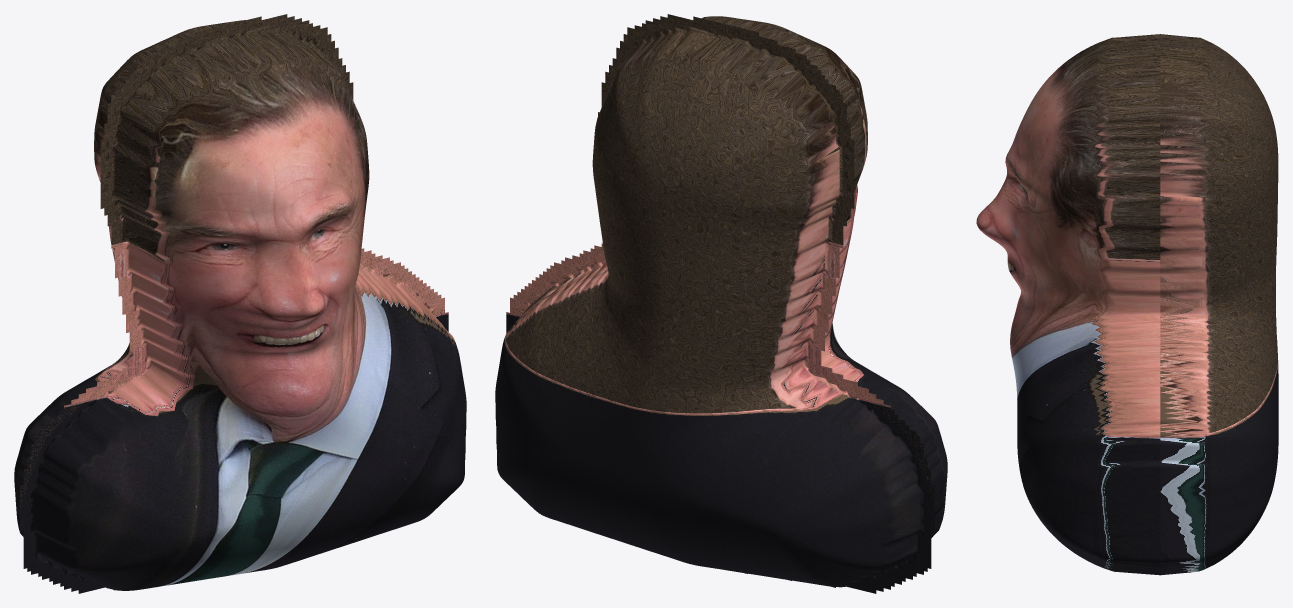
Rendered from schroeder_head.glb.
The picture shows the model from 3 angles, left to right: view 1: azimuth 30°, elevation 25°; view 2: azimuth 150°, elevation 25°; view 3: azimuth 270°, elevation 25°; orthographic projection. The views are drawn at different scales.
Parts seen in each view (by area): view 1: head; view 2: head; view 3: head.
Part boxes in pixels (x1,y1,x2,y2): head: (14, 14, 466, 593); head: (495, 14, 947, 593); head: (976, 34, 1278, 575).
Size of the model in its own units: 1.75 by 2.13 by 1.18.
Materials: 1 (1 with a texture image).
